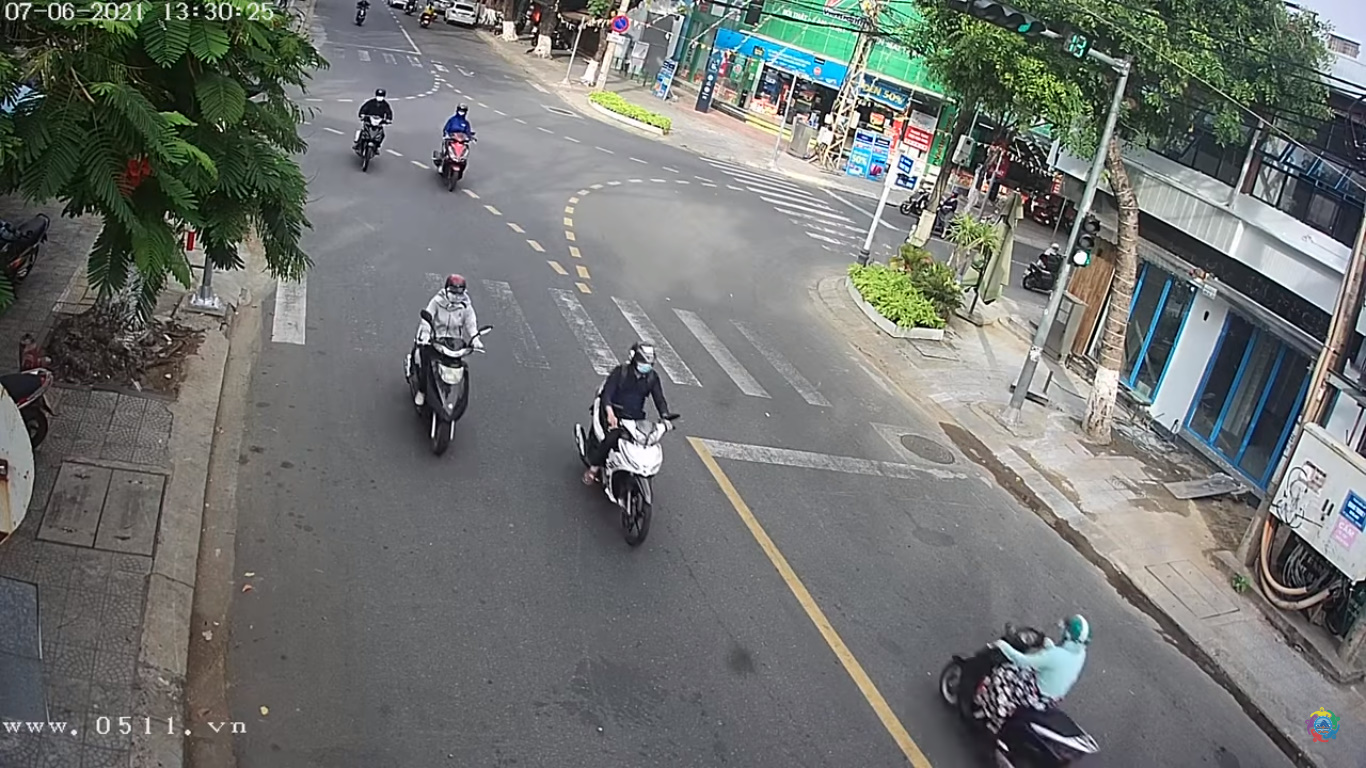motorbike: (579, 340, 673, 551), (402, 276, 490, 452)
